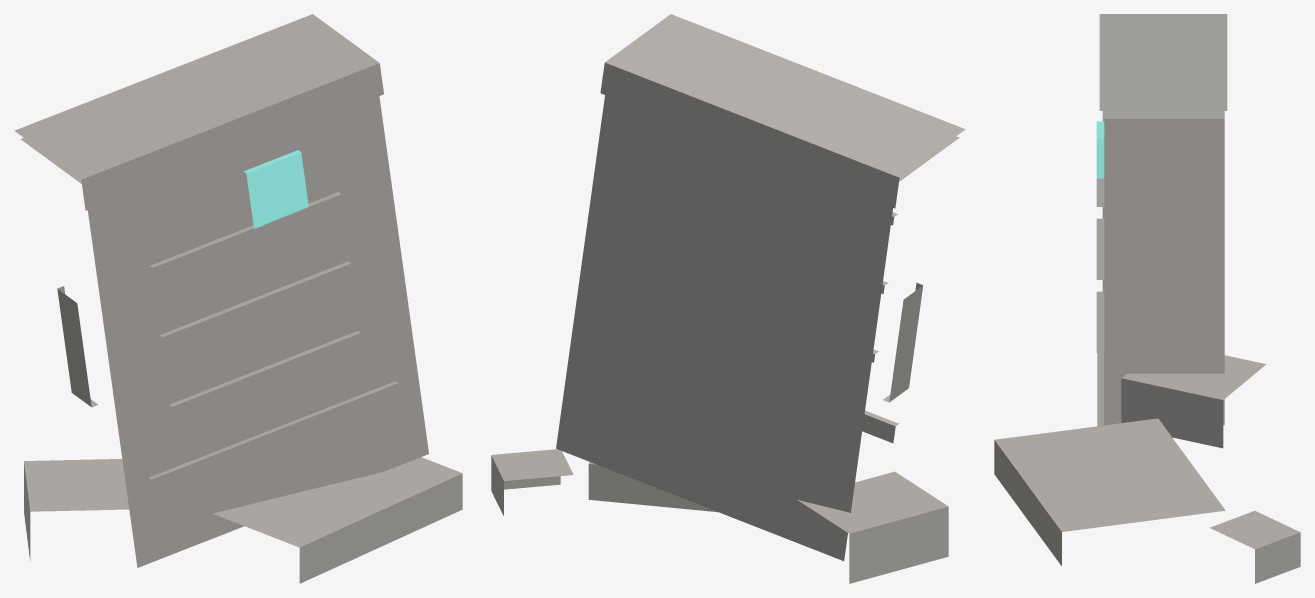
File: SM_Ruin_Block.glb
The picture shows the model from 3 angles, left to right: view 1: azimuth 30°, elevation 25°; view 2: azimuth 150°, elevation 25°; view 3: azimuth 270°, elevation 25°; orthographic projection. The views are drawn at different scales.
Visible parts, largest first — view 1: SM_Ruin_Block; view 2: SM_Ruin_Block; view 3: SM_Ruin_Block.
Boxes of the visible parts, <box> form: SM_Ruin_Block: <box>14,14,462,583</box>; SM_Ruin_Block: <box>491,14,965,583</box>; SM_Ruin_Block: <box>994,14,1300,583</box>.
Bounding box in the file's own units: 1.2 × 1.23 × 0.8032.
